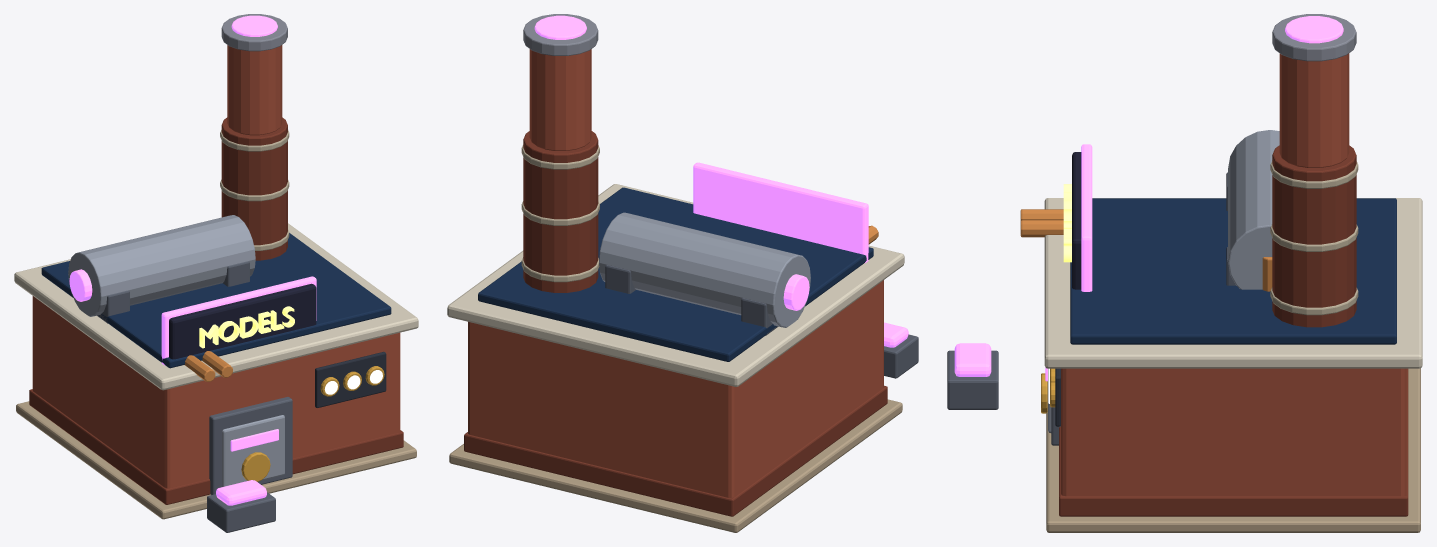
File: model-boilerhouse-SwMa2QCs.glb
3 views of the same model, side by side, from view 1: azimuth 30°, elevation 25°; view 2: azimuth 150°, elevation 25°; view 3: azimuth 270°, elevation 25° (orthographic). The views are drawn at different scales.
Visible parts, largest first — view 1: hall, tank, roof_slab, cornice, stack_low, plinth, sign_board, base_band, stack_high, furnace_frame, furnace_door, gauge_board (+13 smaller); view 2: hall, roof_slab, tank, cornice, stack_low, sign_rim, base_band, plinth, stack_high, stack_cap, coal_bin, stack_mouth (+6 smaller); view 3: hall, roof_slab, cornice, stack_low, plinth, base_band, stack_high, tank, stack_cap, coal_bin, sign_rim, sign_board (+7 smaller).
Part boxes in pixels (<box>): hall: <box>32,296,400,488</box>; tank: <box>68,215,255,316</box>; roof_slab: <box>41,233,391,368</box>; cornice: <box>14,223,418,390</box>; stack_low: <box>221,117,287,260</box>; plinth: <box>16,401,416,519</box>; sign_board: <box>169,283,316,359</box>; base_band: <box>29,389,403,504</box>; stack_high: <box>227,45,282,135</box>; furnace_frame: <box>209,397,292,494</box>; furnace_door: <box>222,415,284,486</box>; gauge_board: <box>315,351,386,407</box>; hall: <box>468,280,883,497</box>; roof_slab: <box>478,187,873,361</box>; tank: <box>599,212,810,327</box>; cornice: <box>447,184,904,386</box>; stack_low: <box>523,131,598,292</box>; sign_rim: <box>693,162,868,263</box>; base_band: <box>464,385,887,516</box>; plinth: <box>449,399,902,532</box>; stack_high: <box>529,49,591,150</box>; stack_cap: <box>523,14,598,55</box>; coal_bin: <box>884,334,918,378</box>; stack_mouth: <box>534,15,586,39</box>; hall: <box>1061,368,1406,496</box>; roof_slab: <box>1070,198,1396,344</box>; cornice: <box>1044,198,1422,368</box>; stack_low: <box>1272,145,1356,327</box>; plinth: <box>1046,368,1420,532</box>; base_band: <box>1059,368,1408,516</box>; stack_high: <box>1279,53,1349,167</box>; tank: <box>1228,130,1279,289</box>; stack_cap: <box>1272,14,1356,61</box>; coal_bin: <box>947,350,998,409</box>; sign_rim: <box>1081,144,1092,291</box>; sign_board: <box>1072,152,1081,289</box>.
Bounding box in the file's own units: 10.3 × 14.15 × 12.95.
